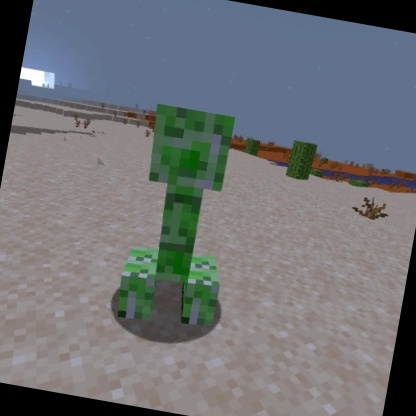creeper: (110, 96, 255, 339)
